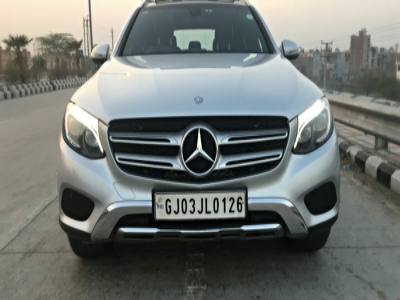licence: (152, 193, 247, 223)
